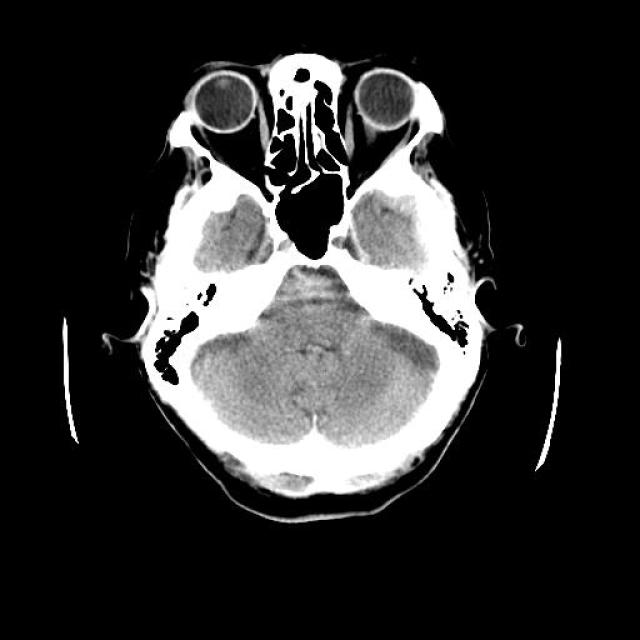Subdural: (344, 164, 484, 272)
